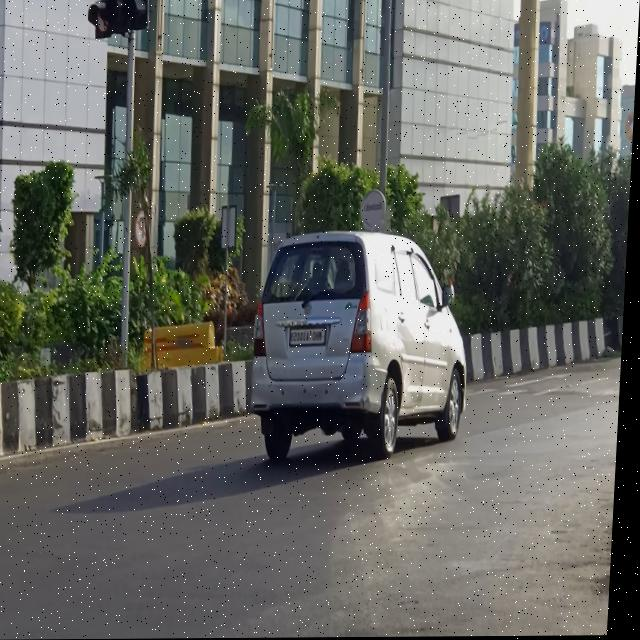plate: (290, 325, 331, 350)
